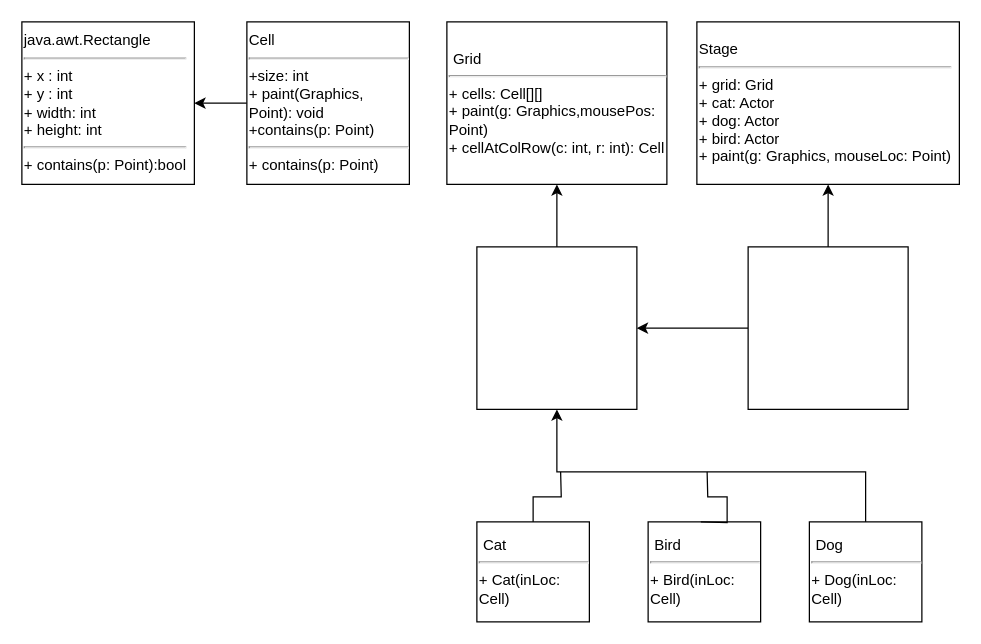
Some shapes in this 981 by 644 pixel diagram are drawn without their labels. Each missing label, with the box of its shape:
Actor + color: Color + loc: Cell + paint ( g : Graphics): (476, 246, 637, 409)
Main + run (): void + Canvas (inner class ) + stage: Stage: (747, 246, 908, 409)
